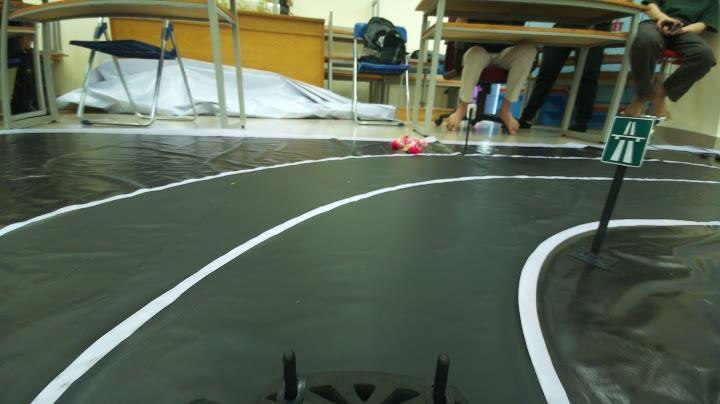highway_entry: (608, 108, 650, 175)
